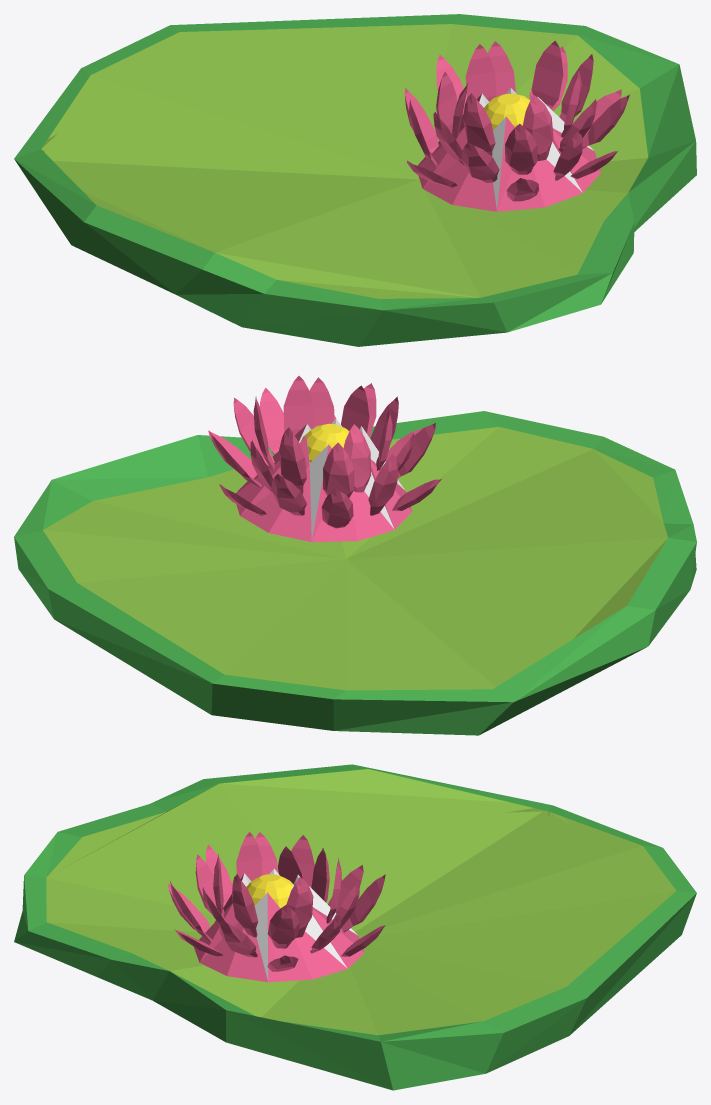
The model's file is Lilly_Pad.glb.
3 renders of one model, top to bottom at view 1: azimuth 30°, elevation 25°; view 2: azimuth 150°, elevation 25°; view 3: azimuth 270°, elevation 25°, orthographic. The views are drawn at different scales.
Visible parts, largest first — view 1: model; view 2: model; view 3: model.
Part boxes in pixels (box(x1,y1,x2,y2)): model: box(14, 14, 696, 346); model: box(14, 376, 696, 735); model: box(14, 764, 696, 1090).
Size of the model in its own units: 0.32 by 0.0768 by 0.3313.
